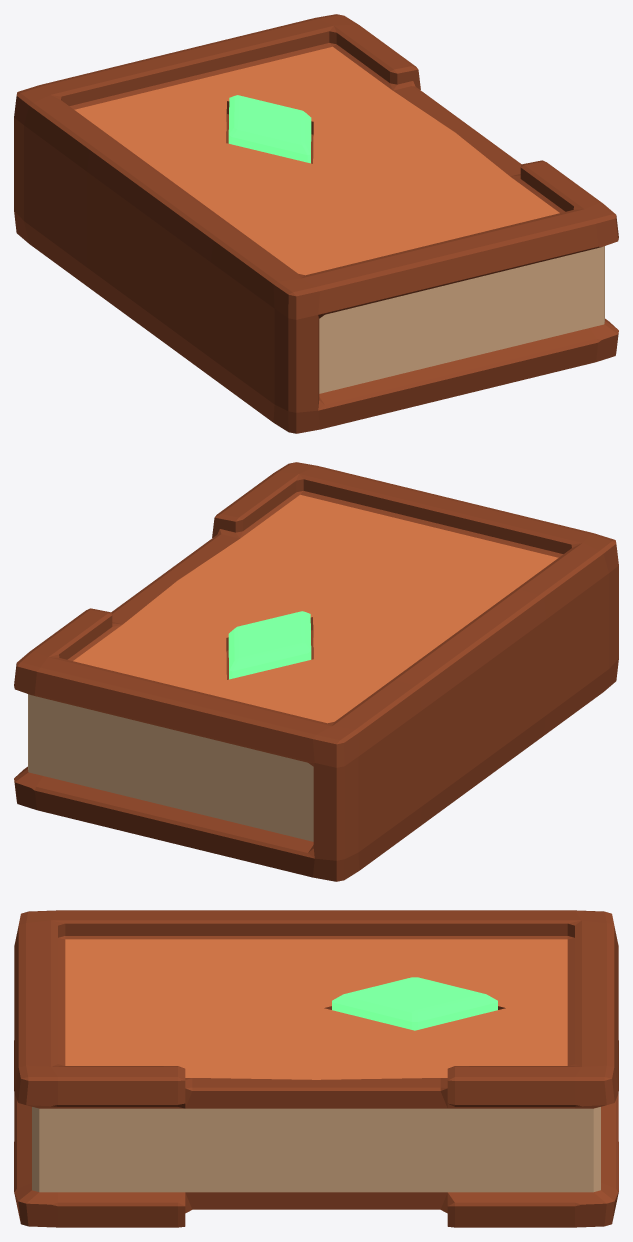
The model's file is DogamBook.fbx.
3 renders of one model, top to bottom at view 1: azimuth 30°, elevation 25°; view 2: azimuth 150°, elevation 25°; view 3: azimuth 270°, elevation 25°, orthographic. The views are drawn at different scales.
Visible parts, largest first — view 1: Cube; view 2: Cube; view 3: Cube.
Part boxes in pixels (x1,y1,x2,y2): Cube: (14, 14, 618, 433); Cube: (14, 462, 618, 881); Cube: (14, 910, 618, 1227).
Bounding box in the file's own units: 280 × 115 × 414.
